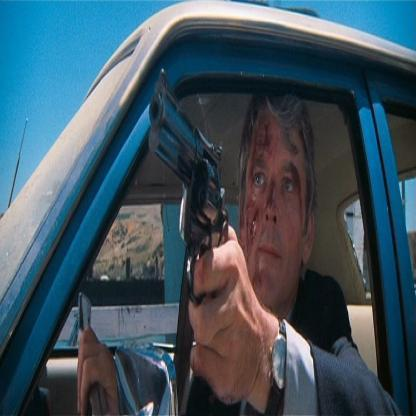gun: (140, 58, 226, 299)
